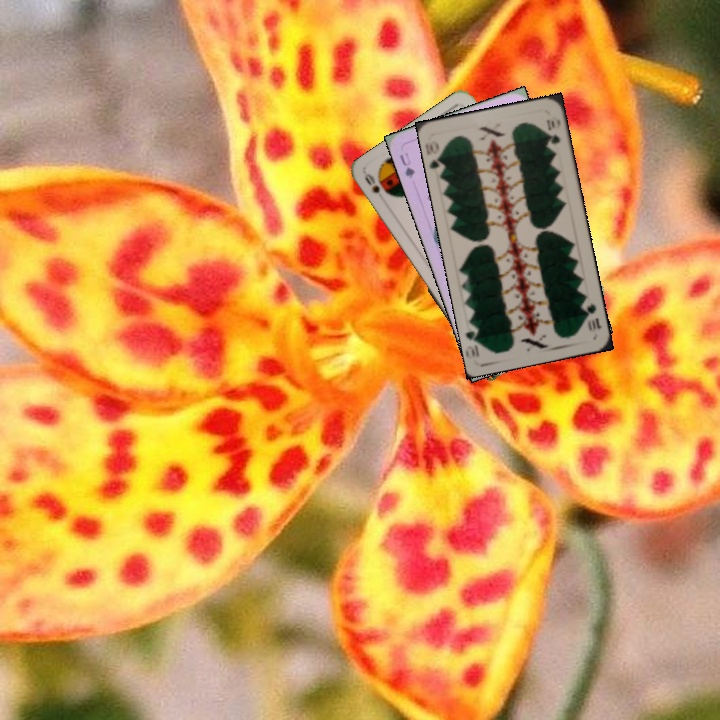G10: (579, 296, 604, 334), (425, 136, 448, 175)
GU: (395, 148, 418, 181)
SO: (360, 169, 382, 196)
